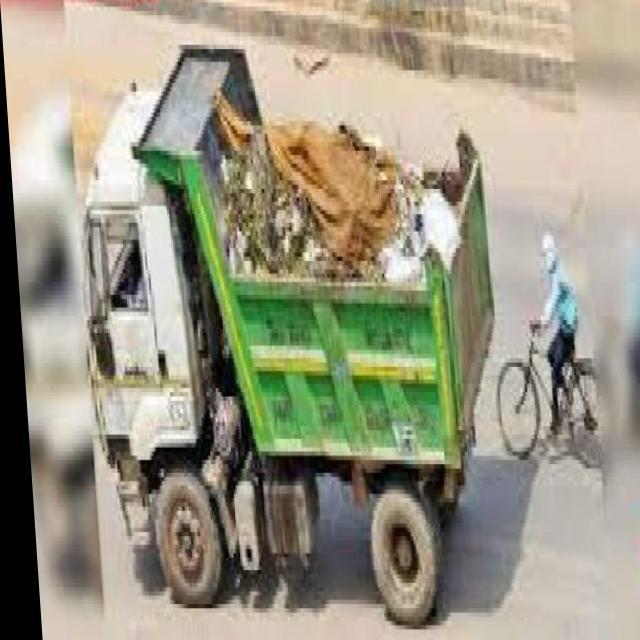uncovered: (83, 71, 502, 612)
